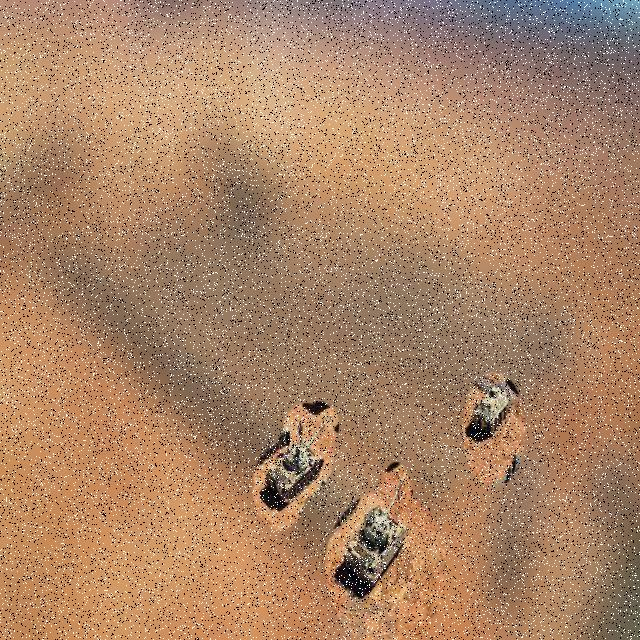MIL_MBT: (339, 462, 413, 594), (262, 416, 326, 508), (470, 378, 512, 440)
